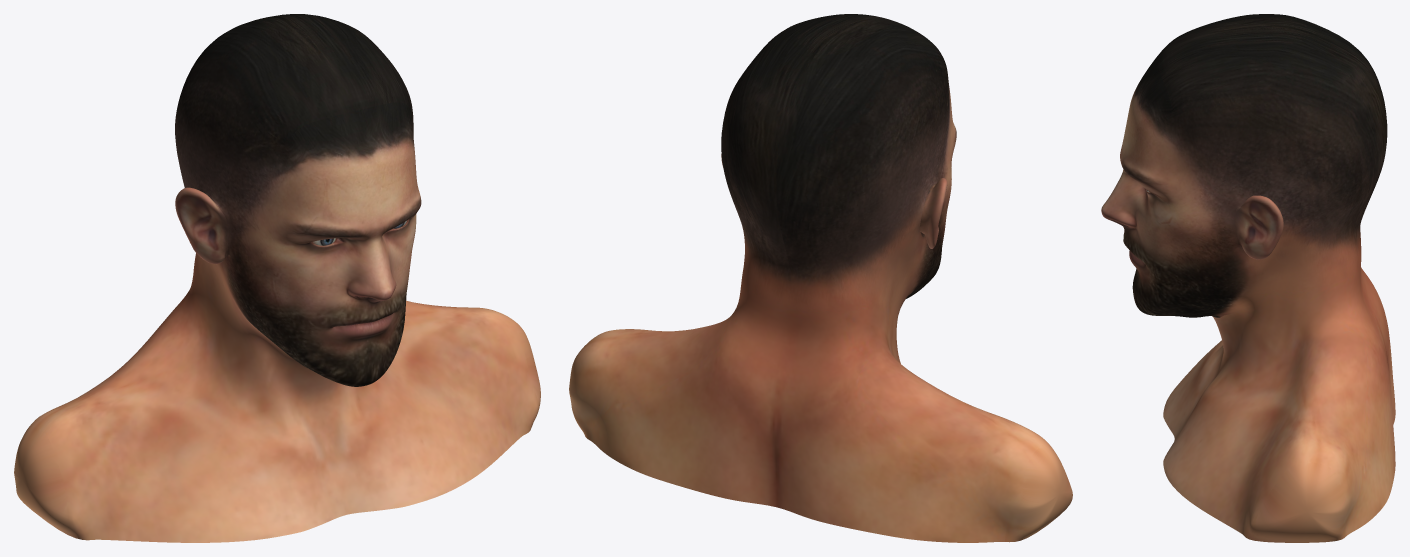
Rendered from male-portrait.glb.
The picture shows the model from 3 angles, left to right: view 1: azimuth 30°, elevation 25°; view 2: azimuth 150°, elevation 25°; view 3: azimuth 270°, elevation 25°; orthographic projection. The views are drawn at different scales.
Parts seen in each view (by area): view 1: Skin; view 2: Skin; view 3: Skin.
Part boxes in pixels (x1,y1,x2,y2): Skin: (14, 14, 540, 542); Skin: (569, 14, 1072, 542); Skin: (1101, 14, 1395, 542).
Size of the model in its own units: 0.975 by 0.8302 by 0.5363.
2 materials, 2 textured.
